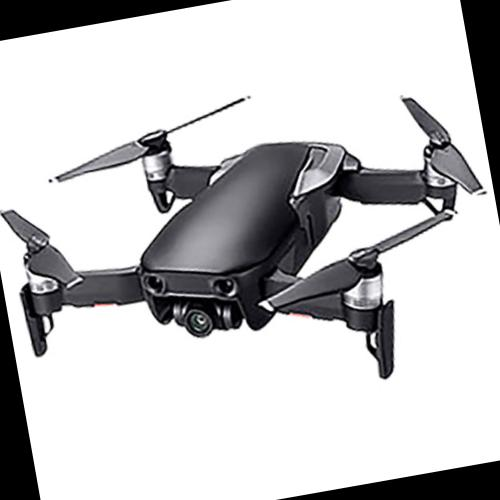drone: (0, 53, 500, 445)
